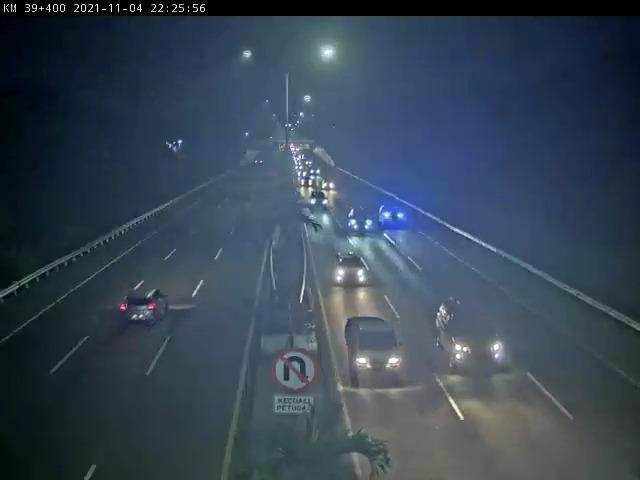car: (430, 291, 526, 381), (116, 278, 175, 337), (332, 246, 379, 289), (376, 198, 415, 228), (343, 205, 377, 239)
truck: (343, 315, 417, 395)
